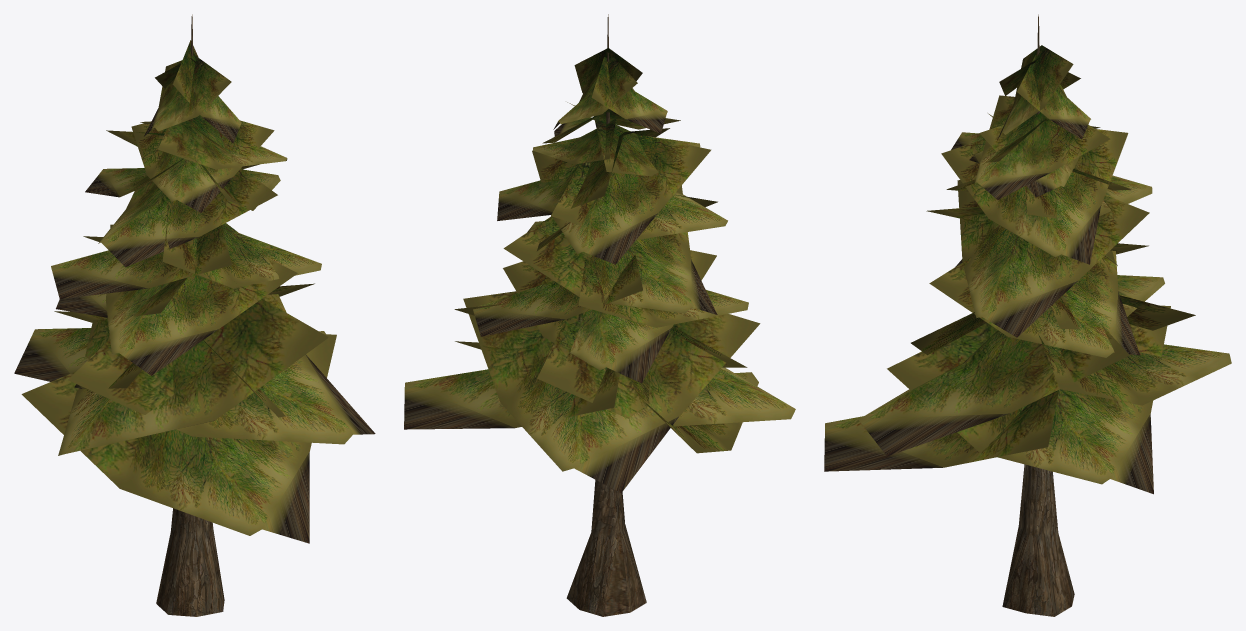
The model's file is zshh_tree01.FBX.
The picture shows the model from 3 angles, left to right: view 1: azimuth 30°, elevation 25°; view 2: azimuth 150°, elevation 25°; view 3: azimuth 270°, elevation 25°; orthographic projection.
Parts seen in each view (by area): view 1: kqzd_shu_4, kqzd_shu_4_1; view 2: kqzd_shu_4, kqzd_shu_4_1; view 3: kqzd_shu_4, kqzd_shu_4_1.
Part boxes in pixels (x1=…): kqzd_shu_4: x1=14, y1=40, x2=375, y2=543; kqzd_shu_4_1: x1=156, y1=14, x2=224, y2=616; kqzd_shu_4: x1=404, y1=48, x2=795, y2=492; kqzd_shu_4_1: x1=566, y1=14, x2=646, y2=616; kqzd_shu_4: x1=824, y1=45, x2=1231, y2=494; kqzd_shu_4_1: x1=1002, y1=14, x2=1074, y2=616.
Size of the model in its own units: 715 by 1226 by 772.
